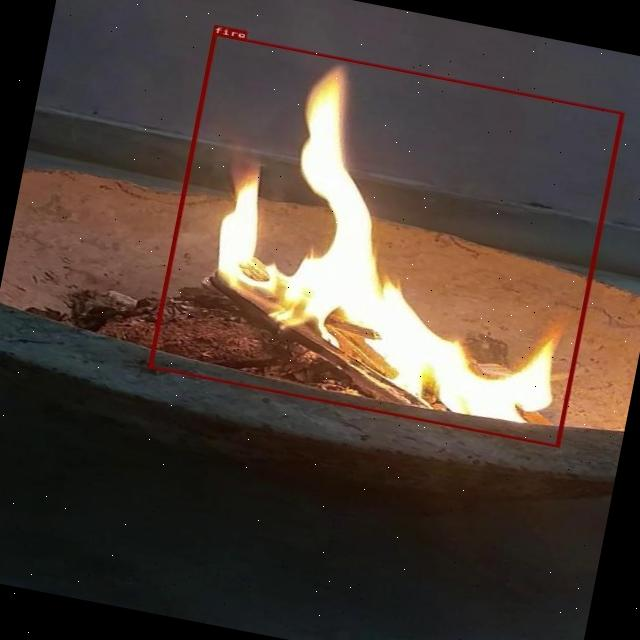fire: (147, 32, 623, 447)
